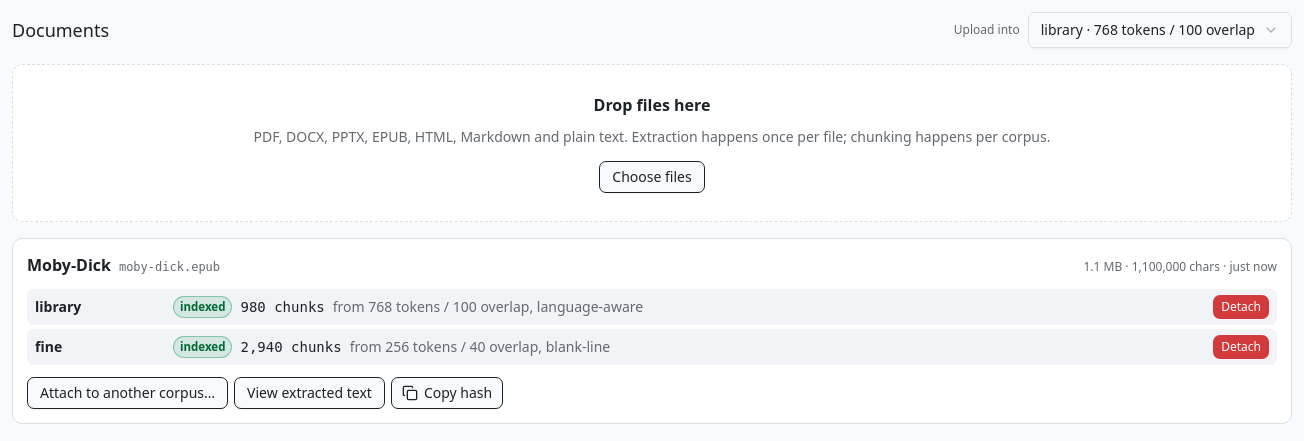
Test: the document library › gives the chunk settings in the upload picker their units
Click the dropdown named "upload into" at (1160, 30), box left=1028, top=12, right=1292, bottom=48
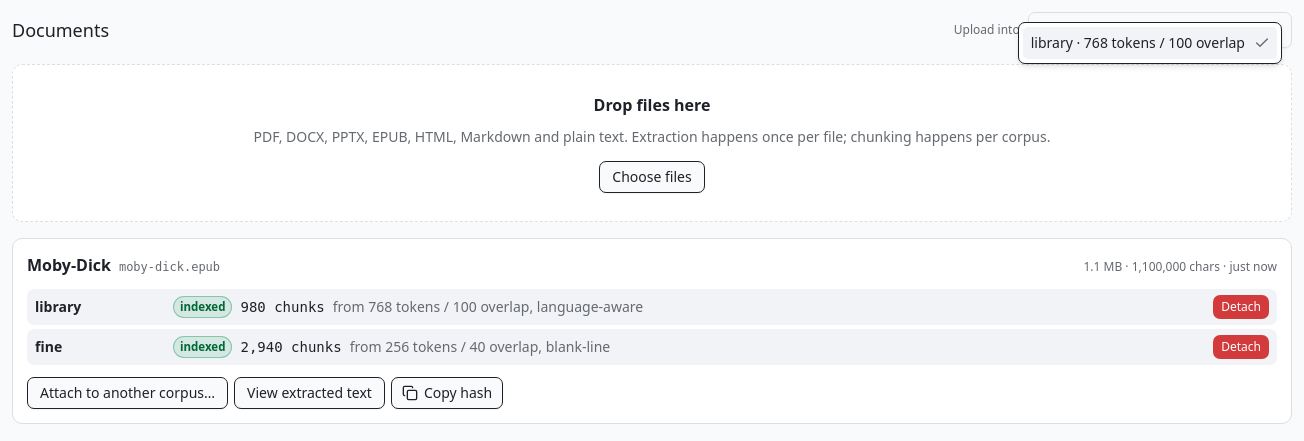
Now the options read "library · 768 tokens / 100 overlap", in this order, box left=1023, top=27, right=1277, bottom=59
